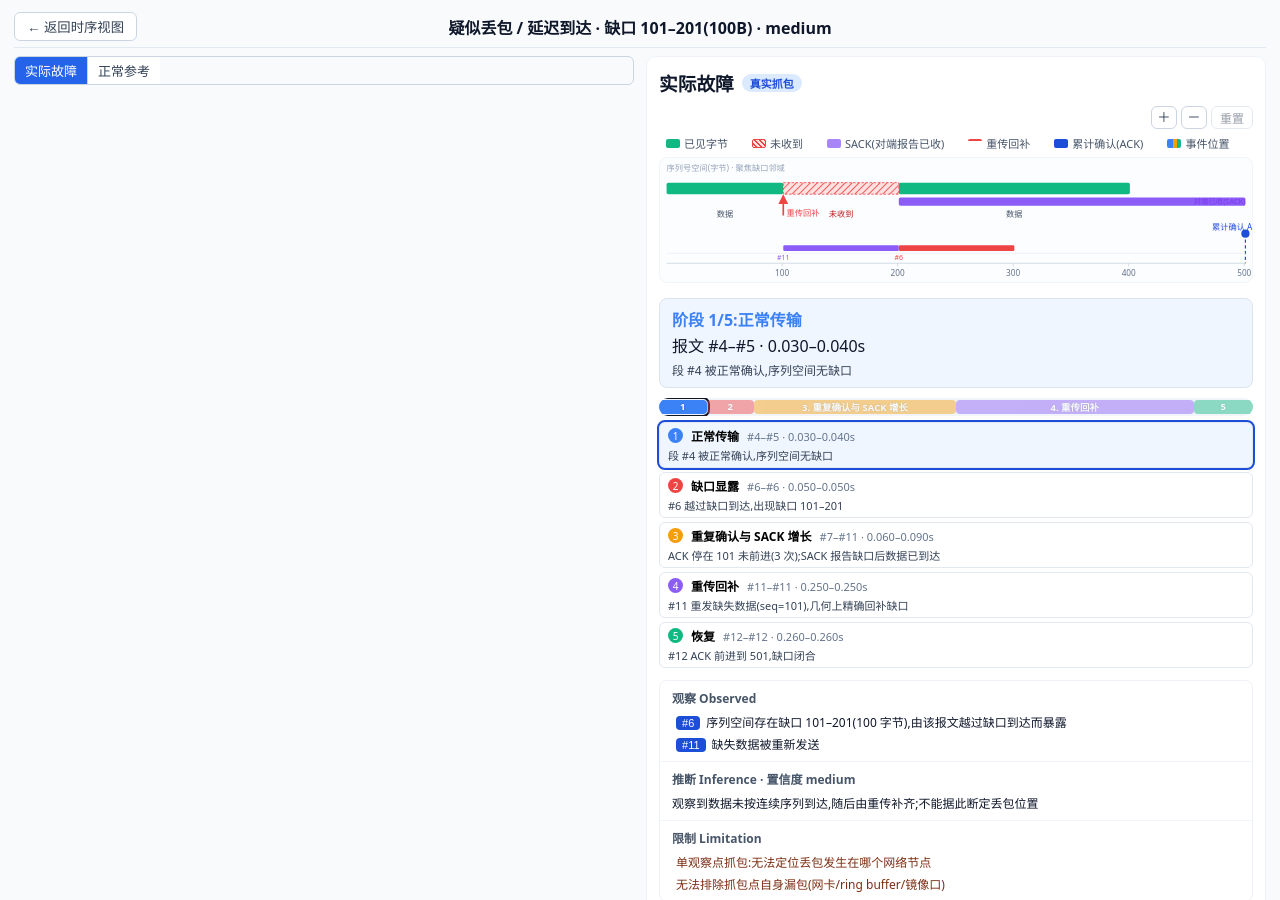
Test case: FaultCompare 对照页(整页板块) › 窄窗口(<900px):双标签切换实际故障/正常参考,单栏渲染
Expected: the element with test id "fc-tabs" shows "实际故障", x1=15 y1=57 x2=87 y2=84
Expected: the element labelled "实际故障" is shown, x1=646 y1=56 x2=1266 y2=899
Note: 切到正常参考 → 实际故障让位
Click the button "正常参考": (124, 70) x1=87 y1=57 x2=160 y2=84
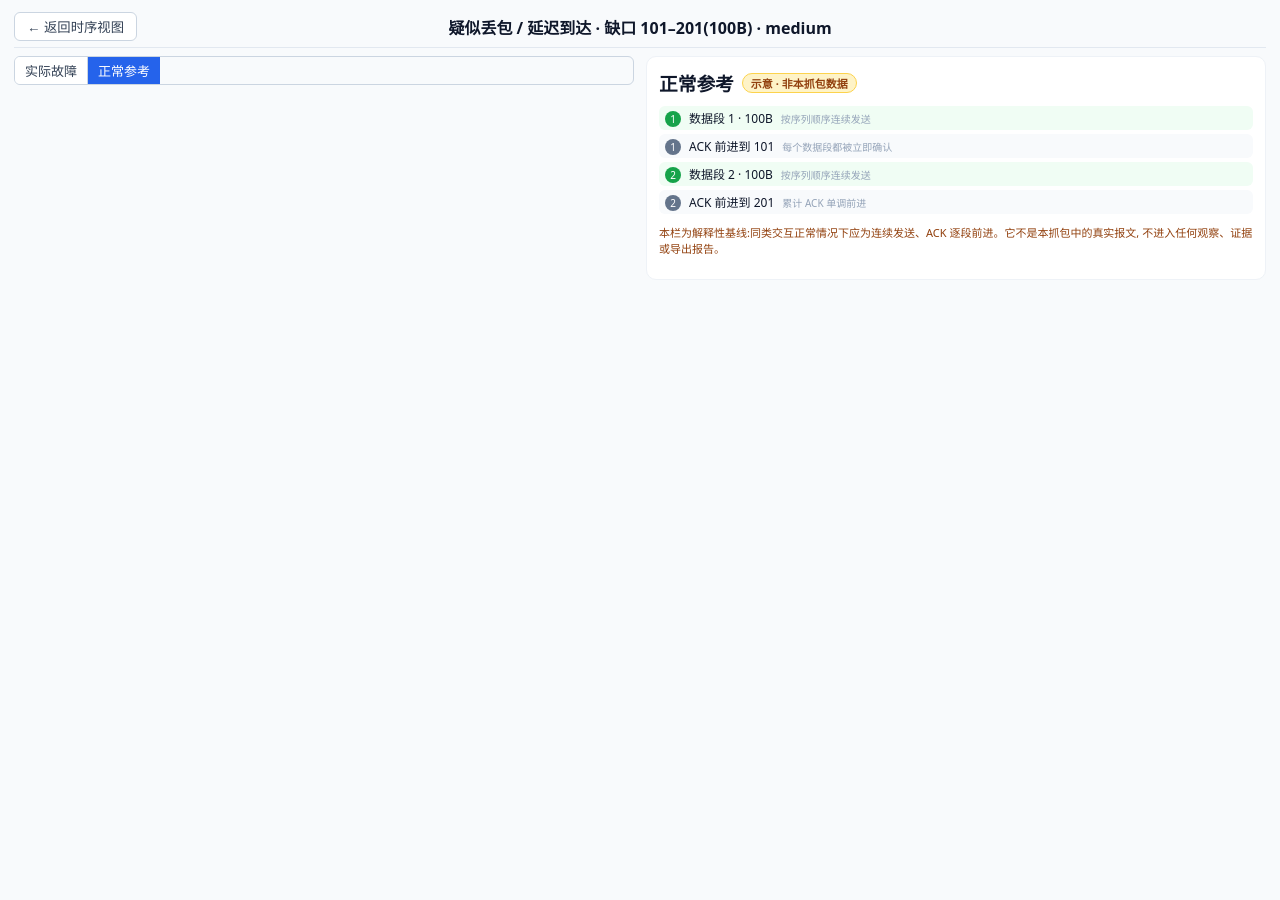
Now the element named "正常参考示意" is shown, box x1=646 y1=56 x2=1266 y2=280
